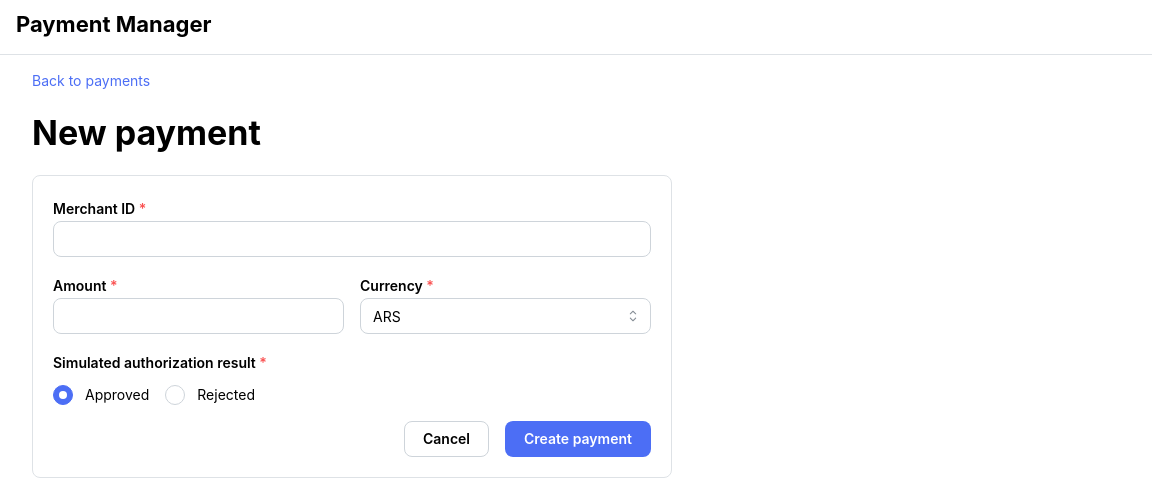
Scenario: CreatePaymentPage › given a pending request, when the form is submitted, then disables the submit button
Type "merchant-001" into the field labelled "Merchant ID" at {"x": 352, "y": 239}, box 53,221 -> 651,257
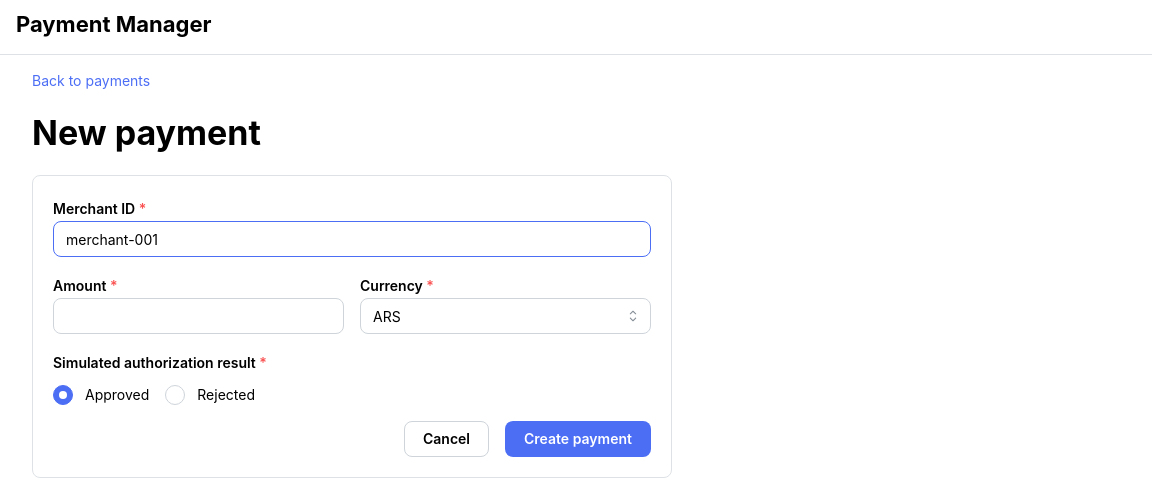
Type "1500.5" into the field labelled "Amount" at {"x": 198, "y": 316}, box 53,298 -> 344,334
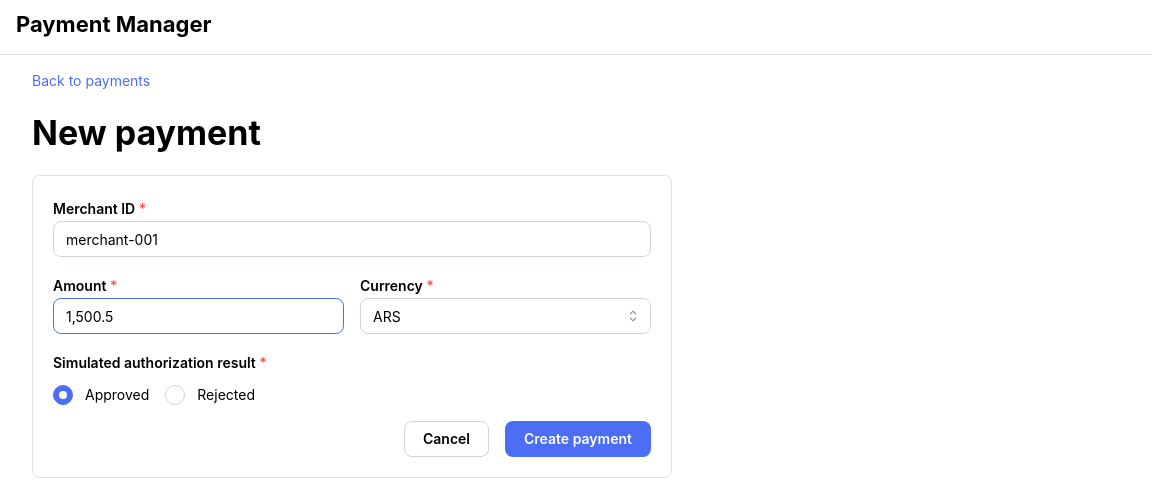
Click the button "Create payment" at {"x": 578, "y": 439}, box 505,421 -> 651,457
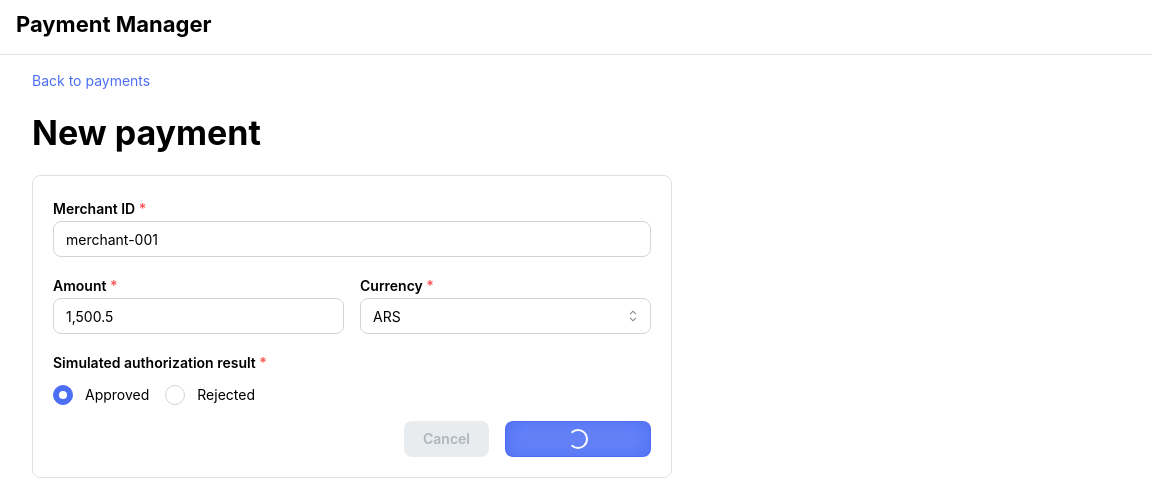
Expected: the button named "Create payment" is disabled, 505,421 -> 651,457
